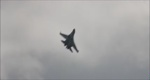maybay_muctieu: (60, 27, 80, 53)
